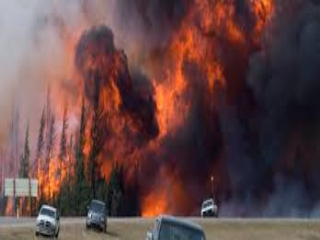fire: (32, 58, 182, 212), (154, 8, 277, 148)
smoke: (204, 145, 314, 214)
